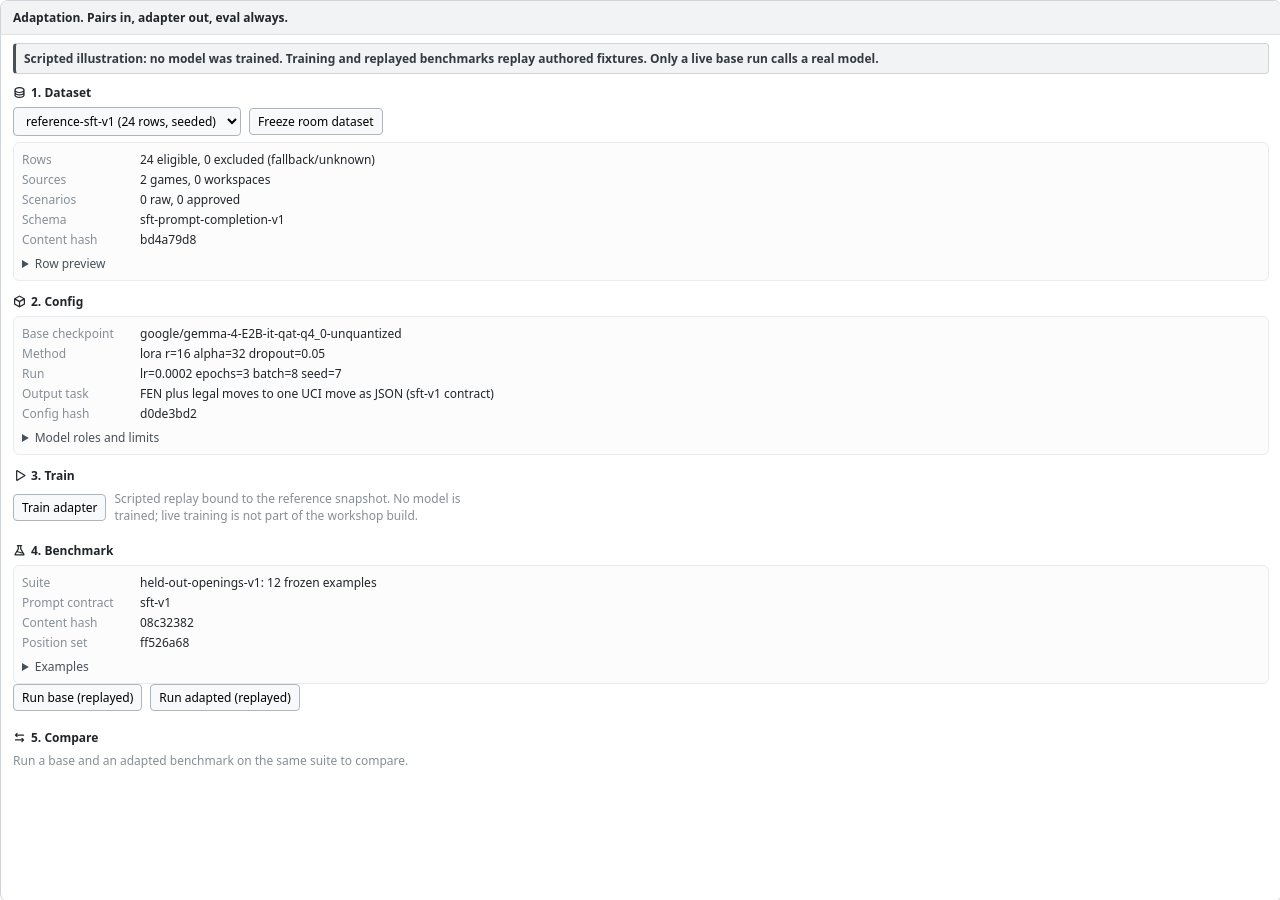
Test case: AdaptationPanel › a freeze refusal from the backend is shown as-is
Click the button with test id "freeze-snapshot": {"x": 316, "y": 122} [249, 108, 382, 135]
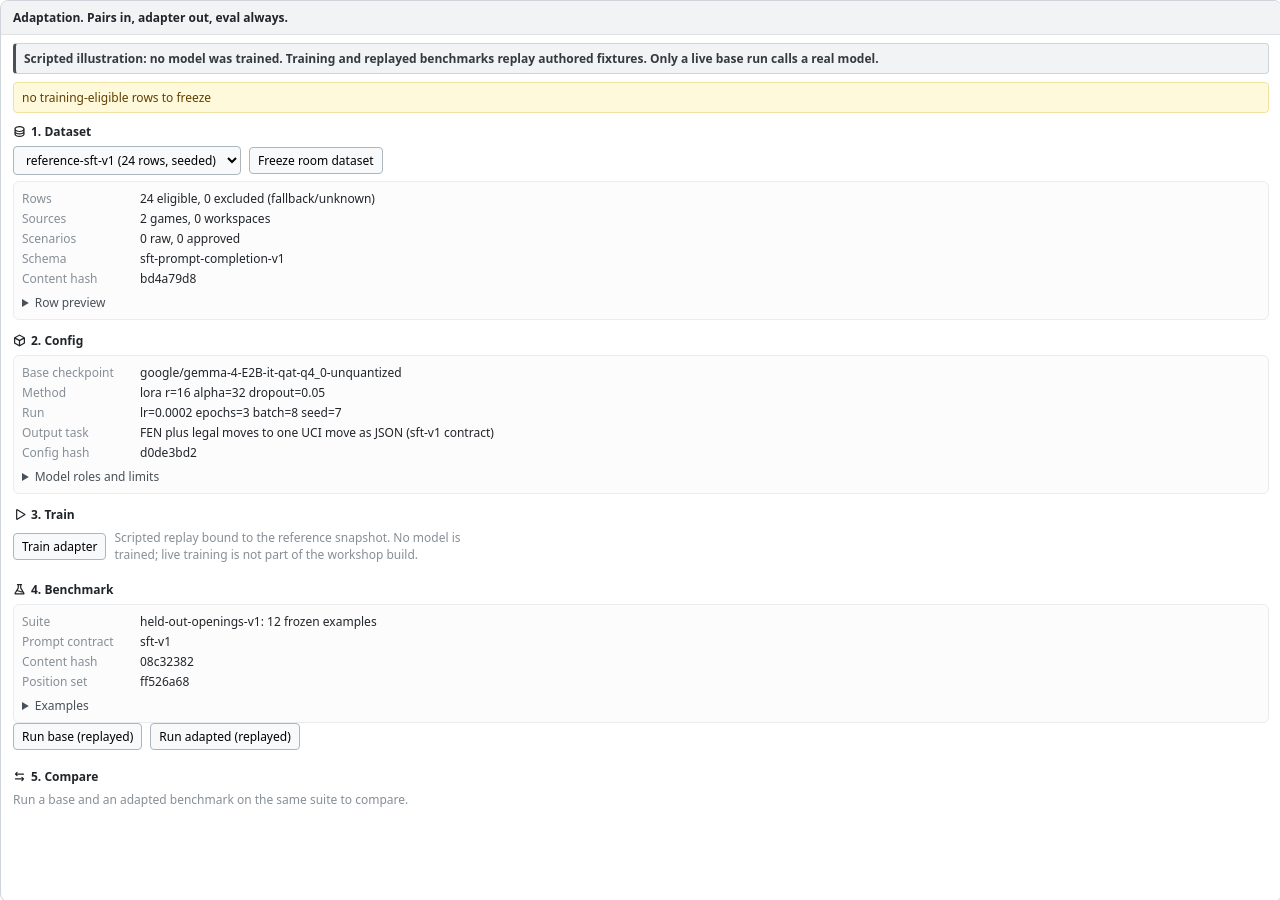
Now the text "no training-eligible rows to freeze" is shown, box [13, 82, 1269, 113]
Now the text with test id "adaptation-notice" shows "no training-eligible rows", box [22, 89, 211, 106]
